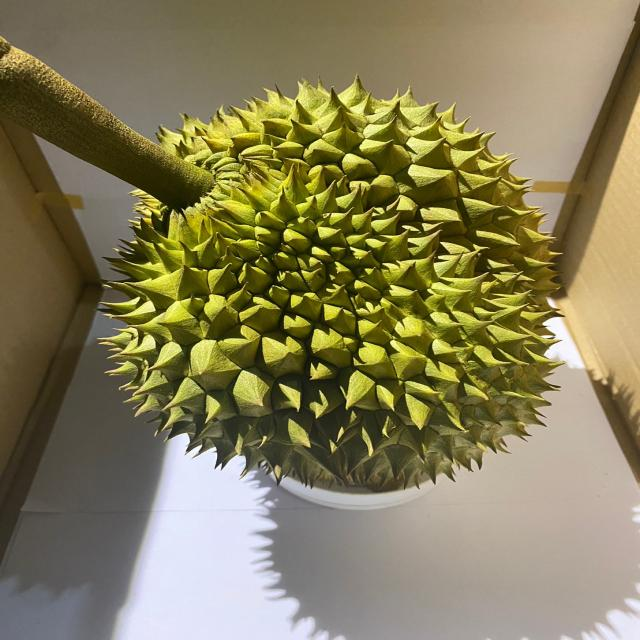immature: (96, 74, 572, 491)
